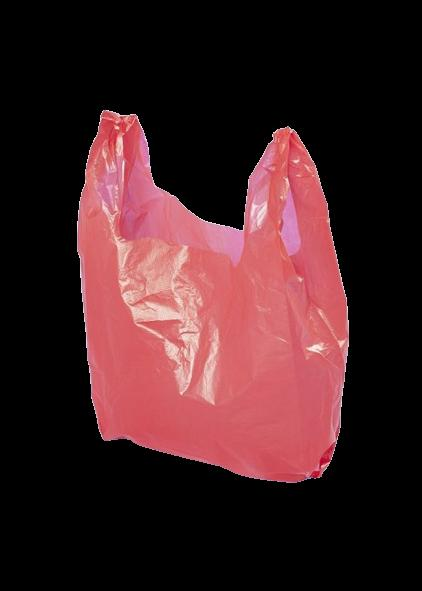Plastik: (75, 105, 348, 487)
